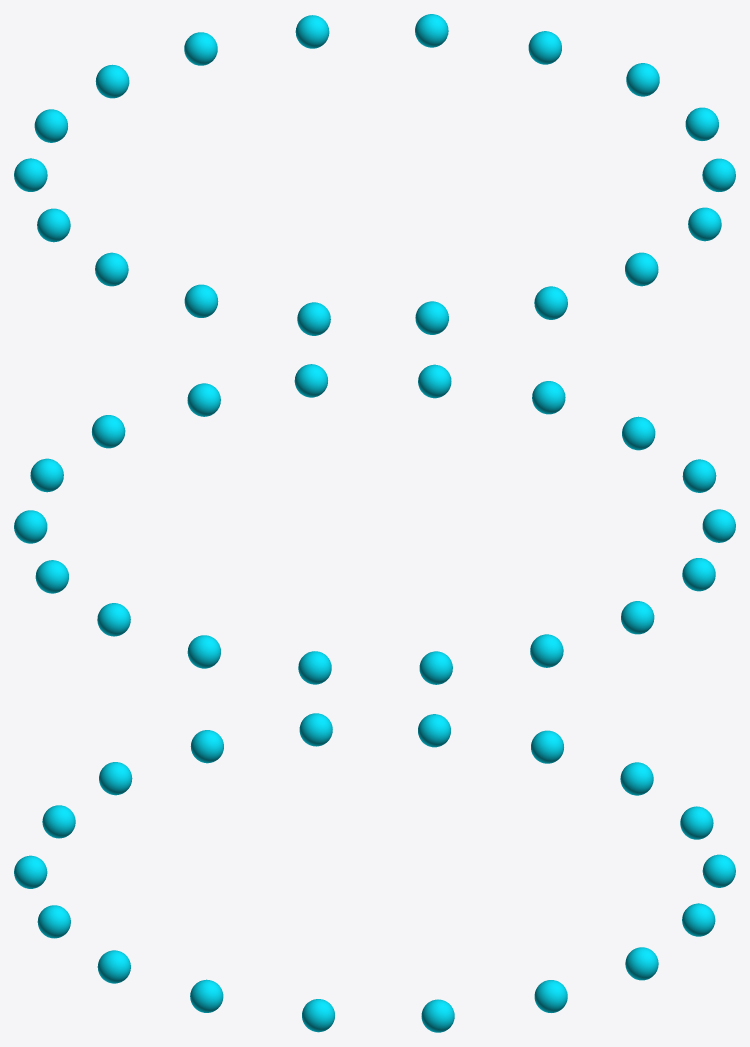
The picture shows the model from 3 angles, top to bottom: view 1: azimuth 30°, elevation 25°; view 2: azimuth 150°, elevation 25°; view 3: azimuth 270°, elevation 25°; orthographic projection.
Parts seen in each view (by area): view 1: Sphere050; view 2: Sphere050; view 3: Sphere050.
Boxes of the visible parts, x1,y1,x2,y2 form: Sphere050: (14,14,735,335); Sphere050: (14,364,735,684); Sphere050: (14,713,735,1032).
Size of the model in its own units: 175 by 8.22 by 178.
